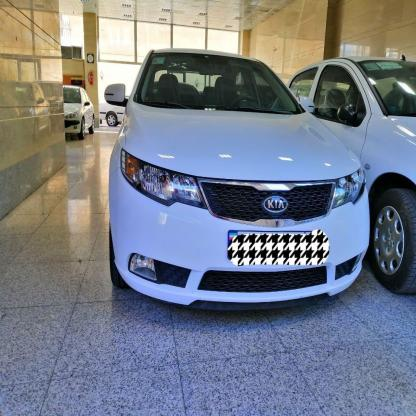Car: (102, 47, 364, 324), (283, 40, 416, 286), (58, 88, 97, 136), (99, 90, 127, 130)
